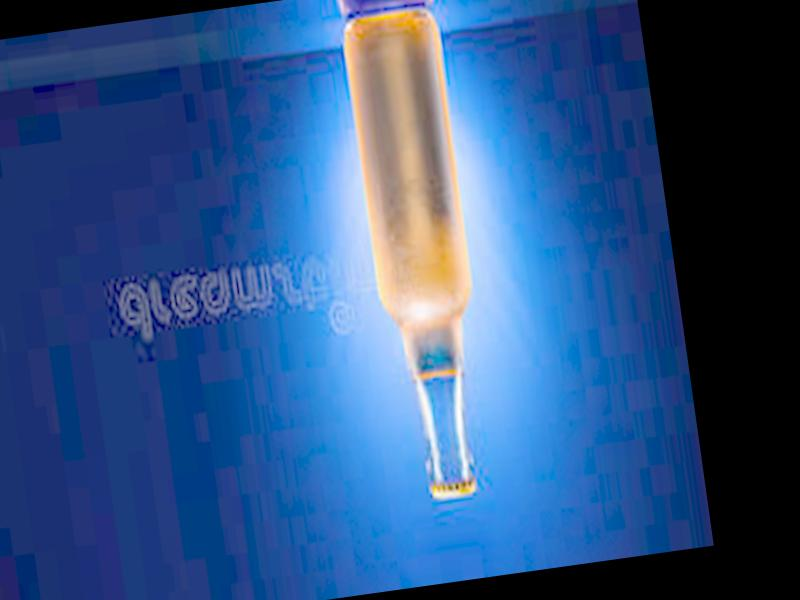Beer: (337, 6, 507, 504)
